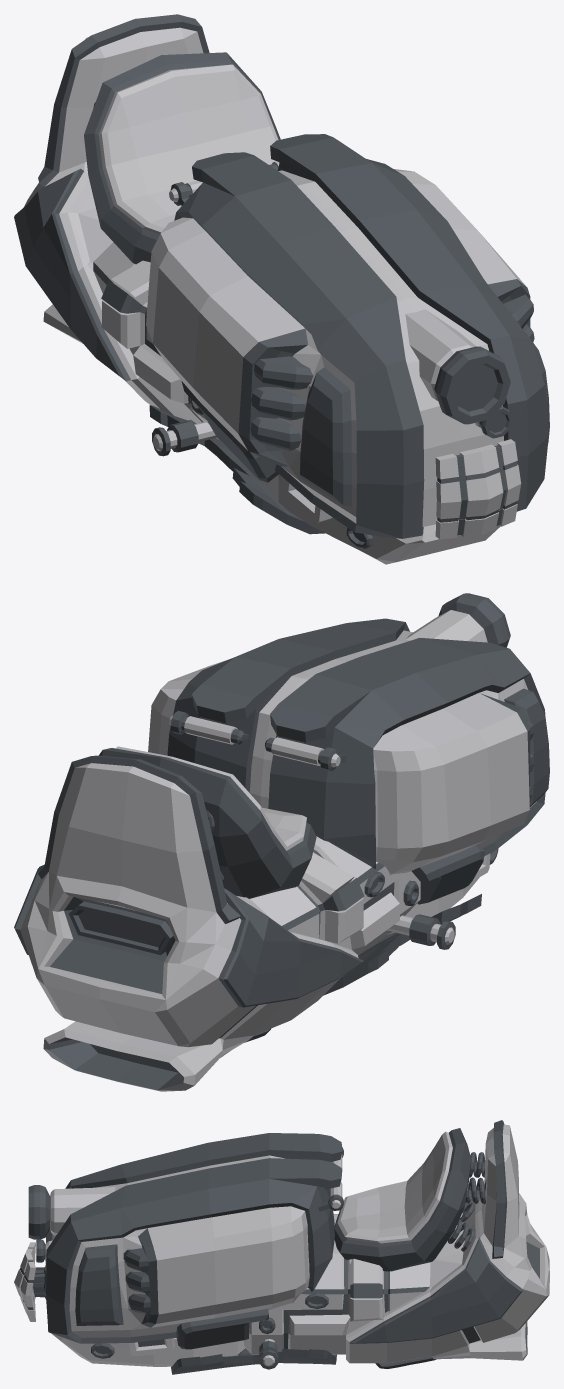
File: Personal_Vehicle_01_Neutral.fbx
3 renders of one model, top to bottom at view 1: azimuth 30°, elevation 25°; view 2: azimuth 150°, elevation 25°; view 3: azimuth 270°, elevation 25°, orthographic. The views are drawn at different scales.
Parts seen in each view (by area): view 1: Personal_Vehicle_01_Neutral; view 2: Personal_Vehicle_01_Neutral; view 3: Personal_Vehicle_01_Neutral.
Part boxes in pixels (bbox=[...]): Personal_Vehicle_01_Neutral: bbox=[14, 14, 549, 564]; Personal_Vehicle_01_Neutral: bbox=[14, 593, 549, 1091]; Personal_Vehicle_01_Neutral: bbox=[14, 1120, 549, 1374].
Size of the model in its own units: 141 by 148 by 319.
Materials: 2 (2 with a texture image).
